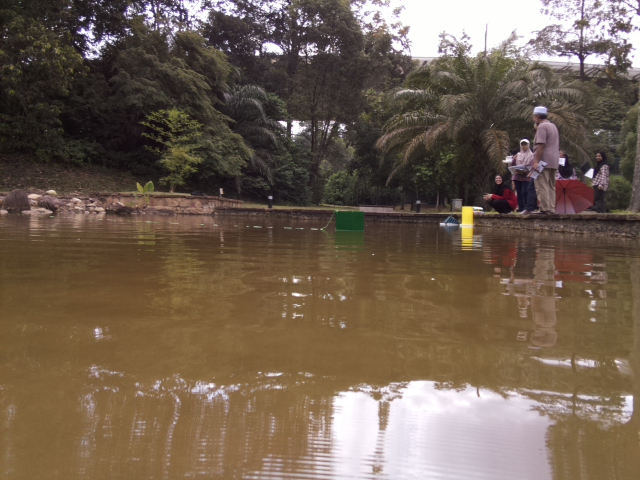obstacle: (334, 210, 365, 233)
